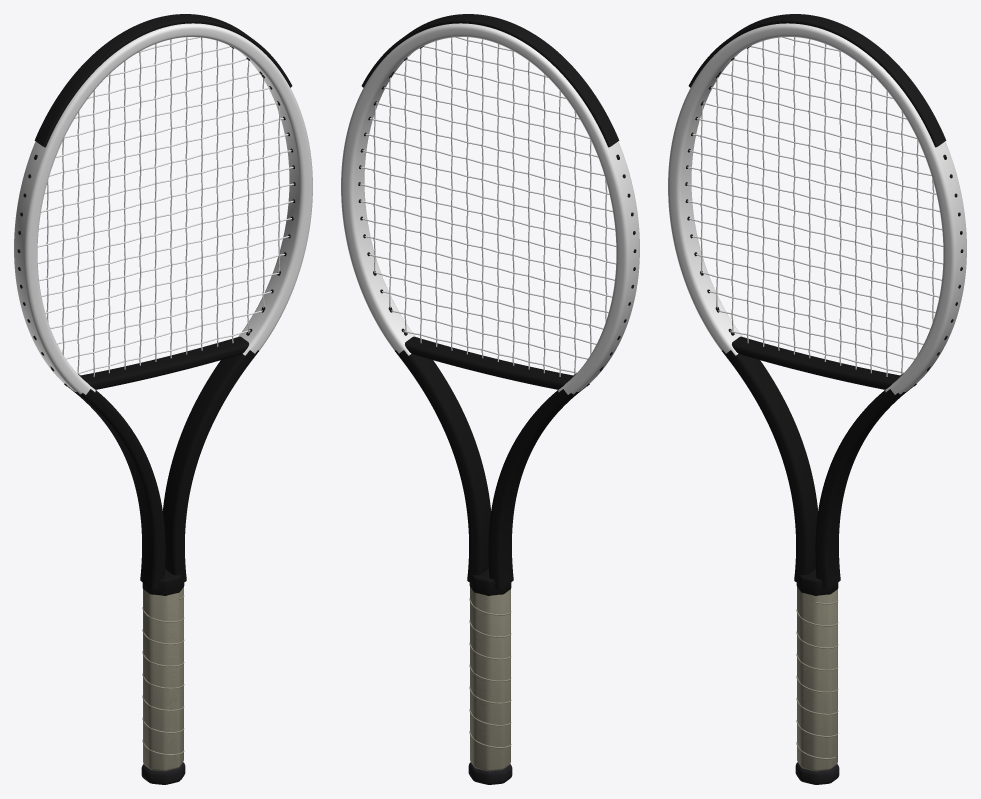
Rendered from head-speed-mp-2024.glb.
The picture shows the model from 3 angles, left to right: view 1: azimuth 30°, elevation 25°; view 2: azimuth 150°, elevation 25°; view 3: azimuth 330°, elevation 25°; orthographic projection.
Visible parts, largest first — view 1: Frame, Strings, Handle, Bumper, Yoke, GripSeam, ButtCap, Collar; view 2: Frame, Strings, Handle, Bumper, Yoke, GripSeam, ButtCap, Collar; view 3: Frame, Strings, Handle, Bumper, Yoke, GripSeam, ButtCap, Collar.
Boxes of the visible parts, box(x1,y1,x2,y2) form: Frame: box(14, 23, 312, 588); Strings: box(37, 37, 294, 376); Handle: box(143, 587, 183, 771); Bumper: box(34, 14, 292, 147); Yoke: box(80, 336, 248, 389); GripSeam: box(142, 595, 184, 755); ButtCap: box(141, 762, 185, 784); Collar: box(142, 569, 184, 595); Frame: box(341, 23, 639, 588); Strings: box(359, 37, 616, 376); Handle: box(470, 587, 510, 771); Bumper: box(361, 14, 619, 147); Yoke: box(405, 336, 573, 389); GripSeam: box(469, 598, 511, 748); ButtCap: box(468, 762, 512, 784); Collar: box(469, 569, 511, 595); Frame: box(668, 23, 966, 588); Strings: box(686, 37, 943, 376); Handle: box(797, 587, 837, 771); Bumper: box(688, 14, 946, 147); Yoke: box(732, 336, 900, 389); GripSeam: box(796, 600, 838, 759); ButtCap: box(795, 762, 839, 784); Collar: box(796, 569, 838, 595).
Bounding box in the file's own units: 0.2758 × 0.6886 × 0.0327.
Materials: 6 (1 with a texture image).
